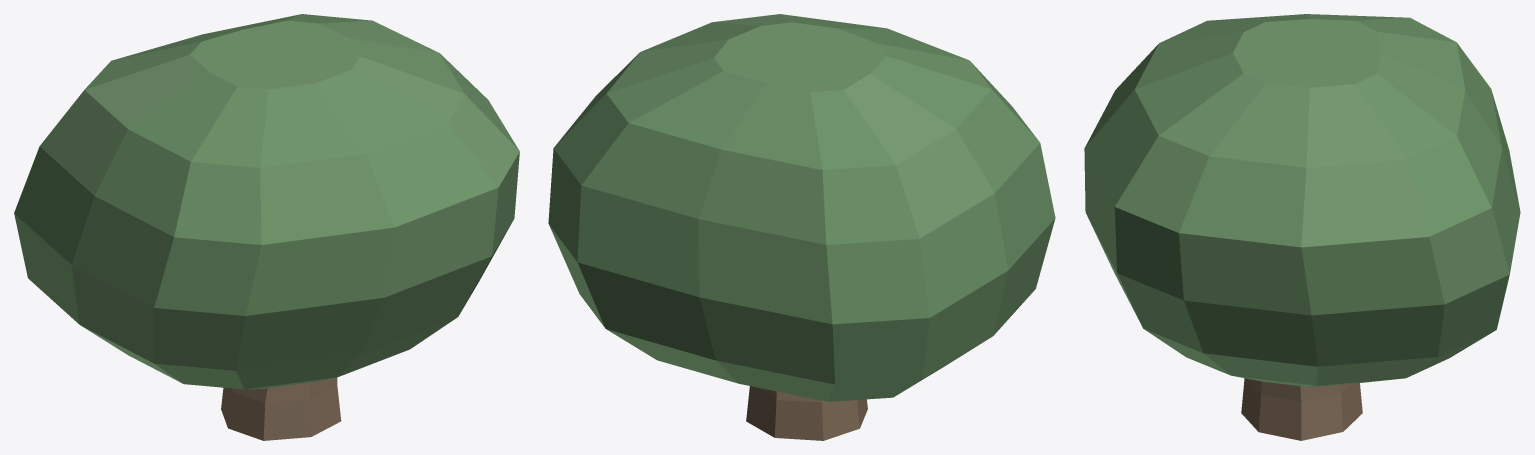
The model's file is tree_small.glb.
The picture shows the model from 3 angles, left to right: view 1: azimuth 30°, elevation 25°; view 2: azimuth 150°, elevation 25°; view 3: azimuth 270°, elevation 25°; orthographic projection.
Visible parts, largest first — view 1: Tree_Small_Canopy, Tree_Small_Trunk; view 2: Tree_Small_Canopy, Tree_Small_Trunk; view 3: Tree_Small_Canopy, Tree_Small_Trunk.
Boxes of the visible parts, box(x1,y1,x2,y2) form: Tree_Small_Canopy: box(14, 14, 519, 389); Tree_Small_Trunk: box(221, 377, 341, 440); Tree_Small_Canopy: box(548, 14, 1055, 401); Tree_Small_Trunk: box(746, 386, 867, 440); Tree_Small_Canopy: box(1084, 14, 1520, 387); Tree_Small_Trunk: box(1241, 378, 1362, 440).
Size of the model in its own units: 1.43 by 1.18 by 1.29.
